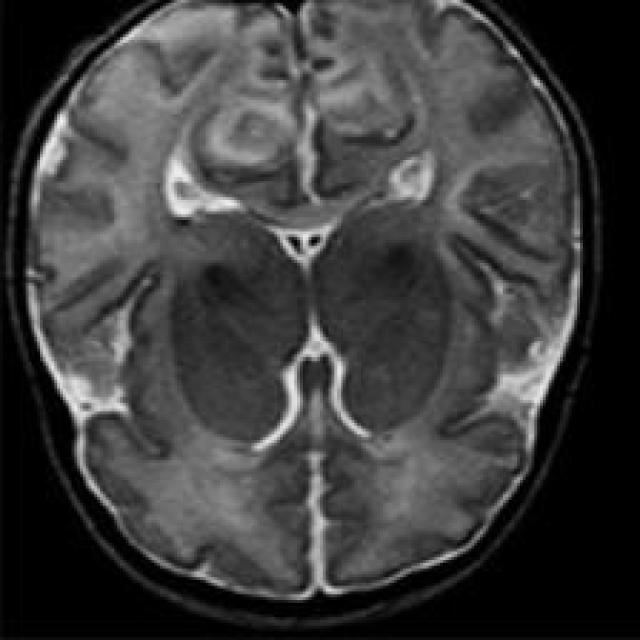no_tumor: (4, 2, 609, 625)
